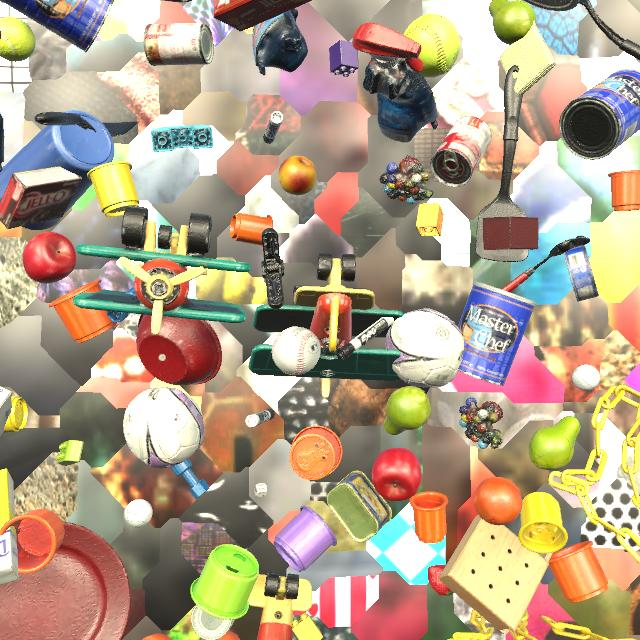ycb_002_master_chef_can: (457, 281, 536, 386), (559, 69, 640, 160), (0, 0, 114, 52)
ycb_003_cracker_box: (213, 0, 312, 32)
ycb_004_sugar_box: (0, 469, 19, 585), (0, 387, 12, 436)
ycb_005_tomato_soup_can: (430, 116, 492, 187), (143, 23, 214, 66), (191, 605, 236, 640)
ycb_007_tuna_fish_can: (564, 245, 599, 302)
ycb_008_pudding_box: (0, 166, 82, 229)
ycb_009_gelatin_box: (638, 532, 640, 536)
ycb_010_potted_meat_can: (327, 471, 392, 543)
ycb_012_strawberry: (428, 565, 454, 596)
ycb_013_apple: (22, 232, 77, 284), (371, 447, 422, 501)
ycb_015_peach: (278, 156, 316, 195)
ycb_016_pear: (529, 416, 581, 470), (384, 386, 431, 435), (489, 0, 536, 45)
ycb_017_orange: (473, 477, 522, 525), (203, 631, 240, 640), (142, 633, 172, 640)
